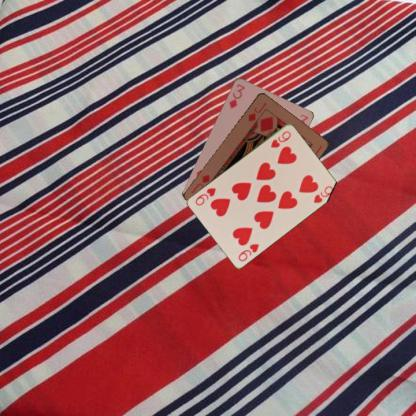3d: (226, 81, 247, 109)
9h: (268, 128, 292, 149), (236, 241, 260, 262)
Jd: (246, 100, 268, 122)
